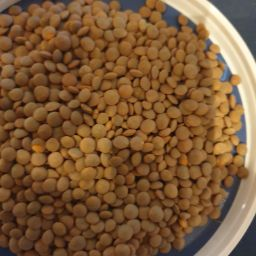Black Lentil(masoor daal): (157, 17, 248, 256), (109, 7, 171, 256), (52, 4, 104, 256), (2, 11, 46, 256)
